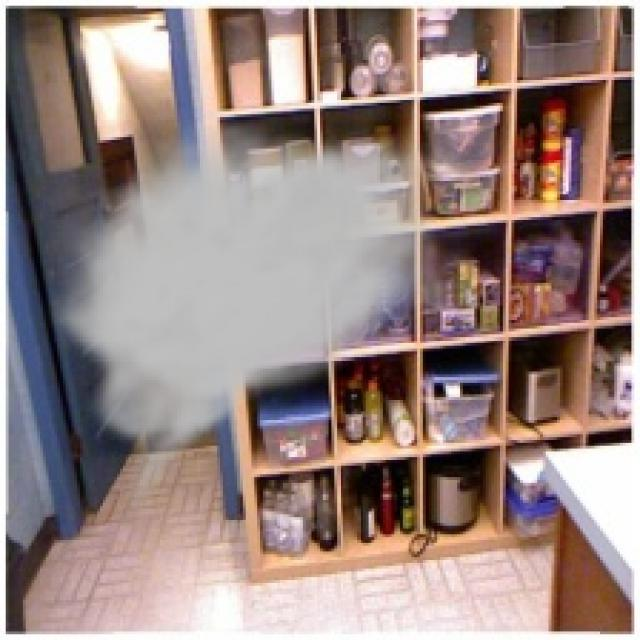smoke: (40, 111, 466, 523)
